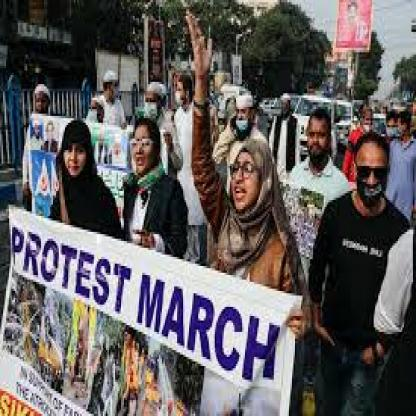BANNER: (0, 207, 301, 416)
